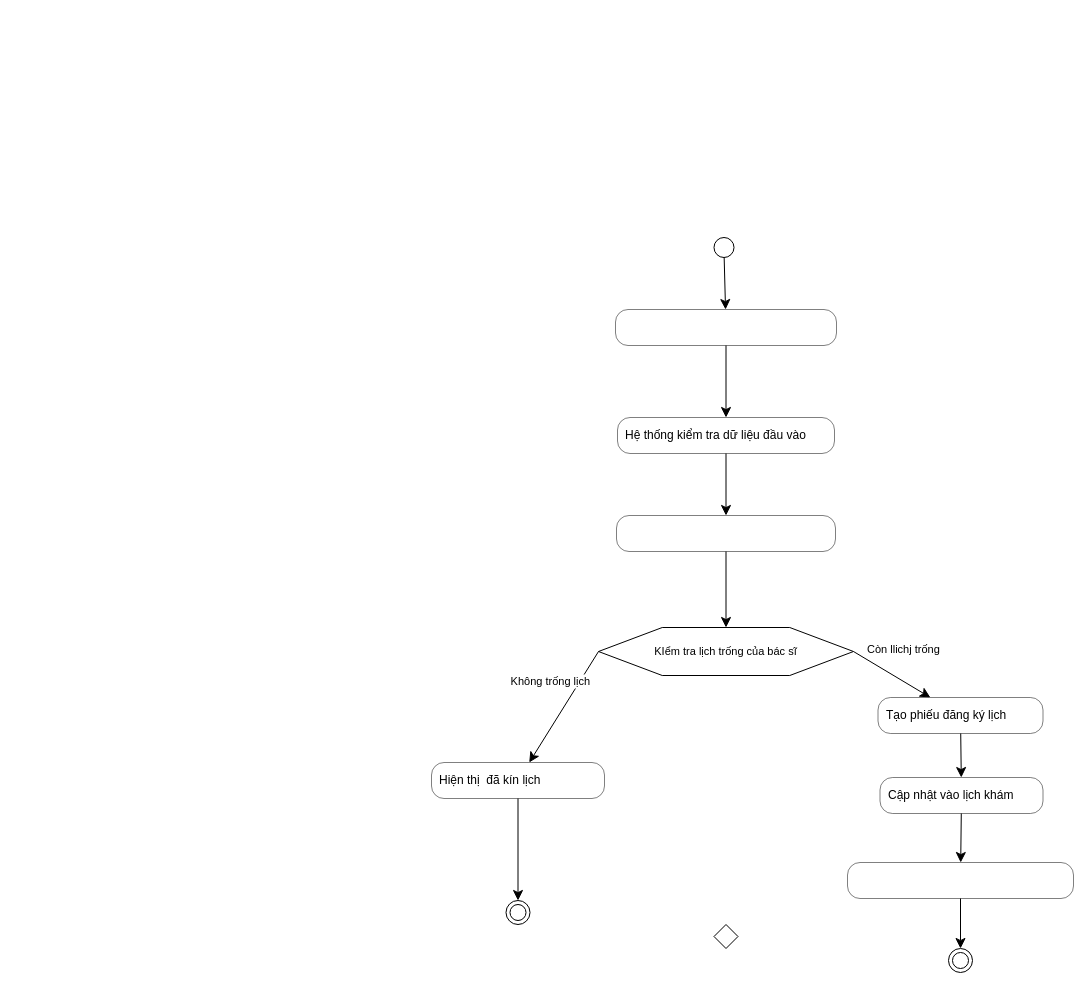
This 1091x990 diagram has some shape labels left out. Here are the shapes that lost their labels. From the top down, the centre of each, then its label:
At pixel 725 327: "Bệnh nhân gửi yêu cầu đặtt lịch khám".
At pixel 725 533: "Hệ thống đối chiếu với lịch khám hiện tại".
At pixel 960 880: "THông báo đặt lịch khám thnafh công".
